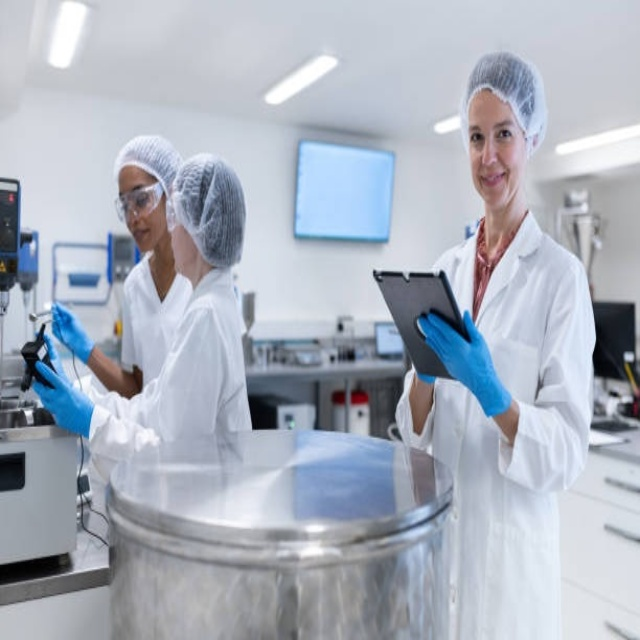Gafas: (115, 182, 164, 226), (162, 195, 185, 234)
Guantes: (415, 300, 515, 420), (28, 358, 96, 439), (44, 298, 102, 362)
Sin_gafas: (468, 125, 522, 152)
Sin_mascara: (477, 168, 511, 207), (130, 226, 152, 253)
